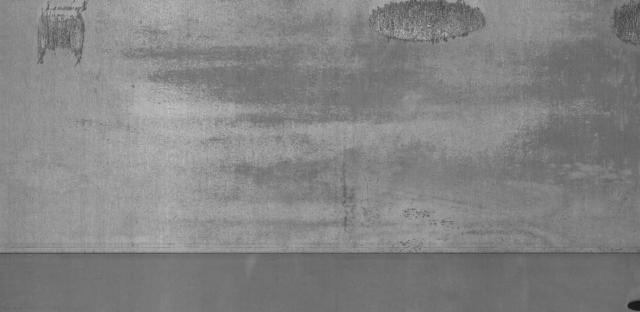rolled_pit: (343, 0, 507, 57), (24, 0, 116, 64), (600, 2, 640, 54)
